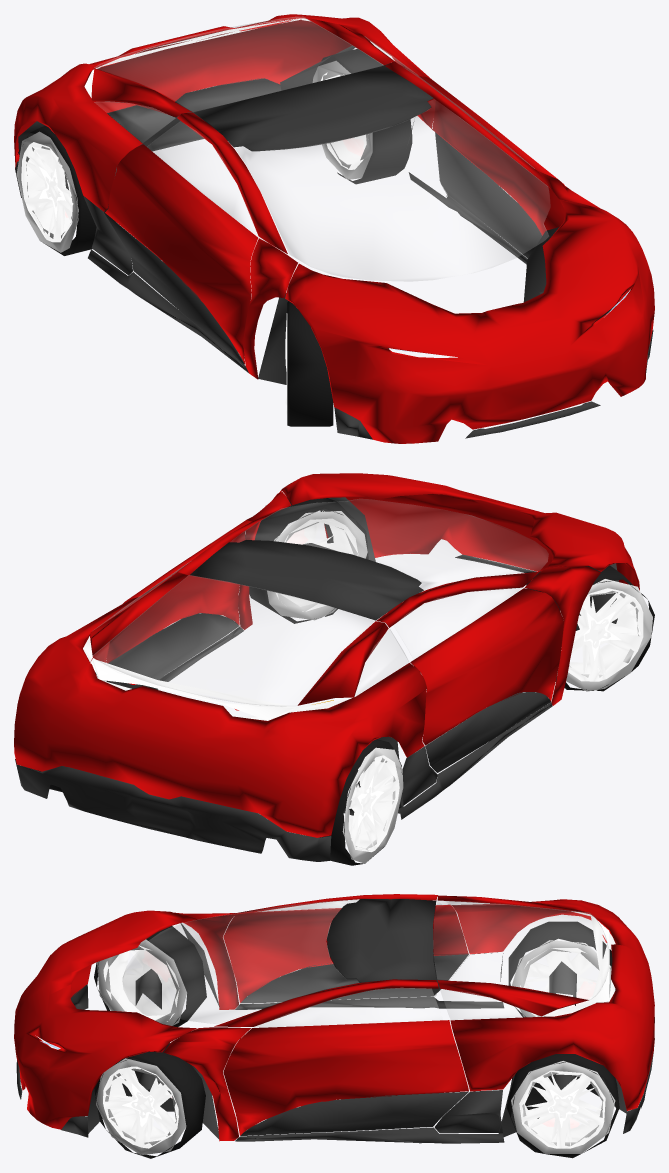
File: car_lo.glb
The picture shows the model from 3 angles, top to bottom: view 1: azimuth 30°, elevation 25°; view 2: azimuth 150°, elevation 25°; view 3: azimuth 270°, elevation 25°; orthographic projection. The views are drawn at different scales.
Parts seen in each view (by area): view 1: BodyHood, BodyWindshield, BodyRearPanelsColor1, BodyRearwindow, BodyDoorRColor1, BodyRoofPanel, BodyPanelsColor2, BodyPillars, BodyDoorLColor1, BodyDoorLColor2, WheelFrontR, BodyDoorRWindow (+8 smaller); view 2: BodyRearPanelsColor1, BodyRearwindow, BodyHood, BodyWindshield, BodyPanelsColor2, BodyDoorRColor1, BodyRoofPanel, BodyPillars, BodyDoorLColor1, WheelFrontRRim, BodyDoorLColor2, WheelFrontL (+9 smaller); view 3: BodyRearPanelsColor1, BodyWindshield, BodyDoorLColor1, BodyHood, BodyRearwindow, BodyPillars, BodyDoorRColor1, BodyPanelsColor2, BodyRoofPanel, BodyDoorLColor2, WheelFrontL, BodyDoorLWindow (+14 smaller).
Boxes of the visible parts, bbox=[...] form: BodyHood: bbox=[285, 200, 654, 443]; BodyWindshield: bbox=[235, 99, 550, 281]; BodyRearPanelsColor1: bbox=[14, 14, 436, 211]; BodyRearwindow: bbox=[94, 16, 383, 111]; BodyDoorRColor1: bbox=[105, 144, 257, 363]; BodyRoofPanel: bbox=[194, 66, 433, 151]; BodyPanelsColor2: bbox=[15, 78, 653, 439]; BodyPillars: bbox=[177, 61, 600, 379]; BodyDoorLColor1: bbox=[419, 76, 569, 235]; BodyDoorLColor2: bbox=[435, 132, 542, 258]; WheelFrontR: bbox=[287, 301, 333, 426]; BodyDoorRWindow: bbox=[147, 121, 257, 235]; BodyRearPanelsColor1: bbox=[14, 572, 426, 837]; BodyRearwindow: bbox=[93, 575, 374, 706]; BodyHood: bbox=[279, 473, 639, 590]; BodyWindshield: bbox=[231, 499, 548, 589]; BodyPanelsColor2: bbox=[15, 540, 552, 861]; BodyDoorRColor1: bbox=[410, 588, 564, 745]; BodyRoofPanel: bbox=[190, 540, 423, 620]; BodyPillars: bbox=[174, 492, 600, 705]; BodyDoorLColor1: bbox=[106, 520, 251, 663]; WheelFrontRRim: bbox=[561, 588, 643, 681]; BodyDoorLColor2: bbox=[108, 613, 238, 688]; WheelFrontL: bbox=[245, 497, 368, 623]; BodyRearPanelsColor1: bbox=[437, 895, 654, 1110]; BodyWindshield: bbox=[122, 900, 358, 1023]; BodyDoorLColor1: bbox=[223, 1020, 468, 1135]; BodyHood: bbox=[14, 910, 196, 1129]; BodyRearwindow: bbox=[433, 901, 608, 999]; BodyPillars: bbox=[163, 894, 438, 1141]; BodyDoorRColor1: bbox=[223, 904, 468, 1002]; BodyPanelsColor2: bbox=[16, 952, 654, 1143]; BodyRoofPanel: bbox=[327, 899, 436, 982]; BodyDoorLColor2: bbox=[240, 1091, 468, 1136]; WheelFrontL: bbox=[94, 1048, 205, 1158]; BodyDoorLWindow: bbox=[254, 988, 442, 1027].
Bounding box in the file's own units: 2.54 × 1.15 × 4.35.
